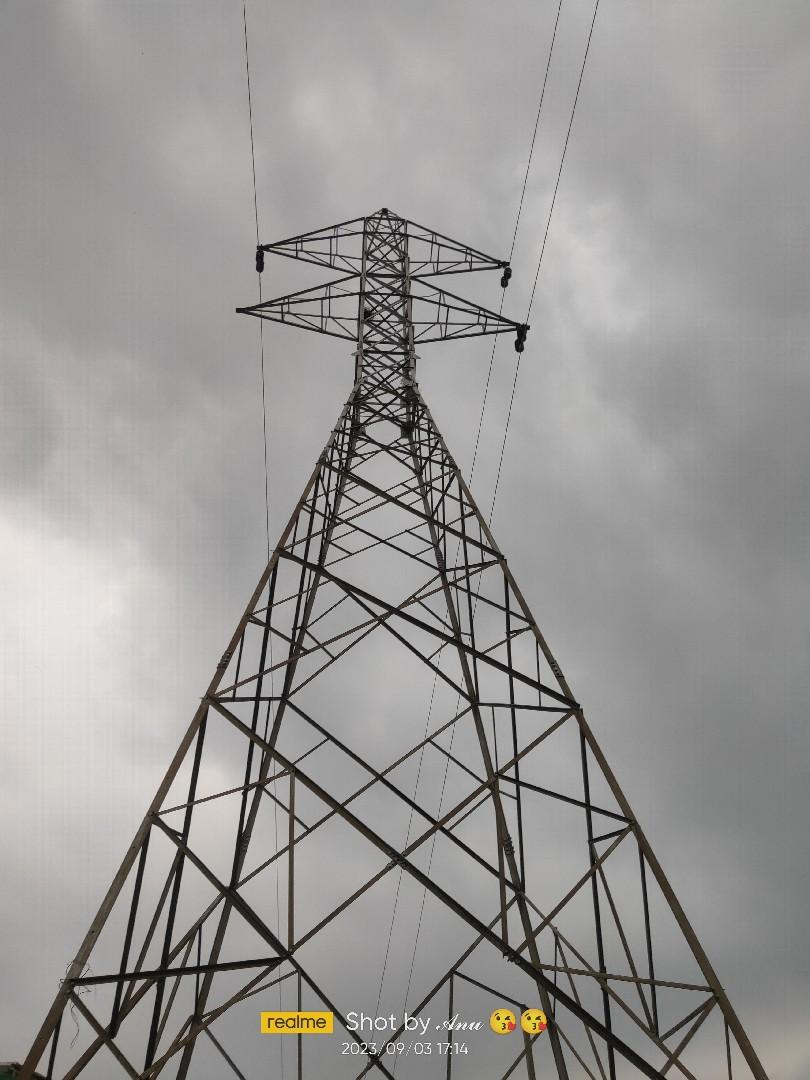GSM Antenna: (16, 202, 741, 1008)
